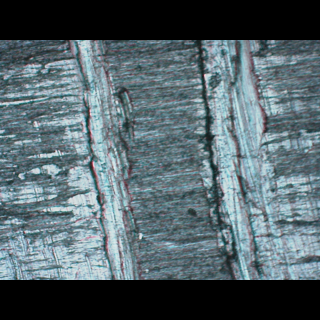d: (0, 40, 146, 279), (190, 40, 319, 279)
